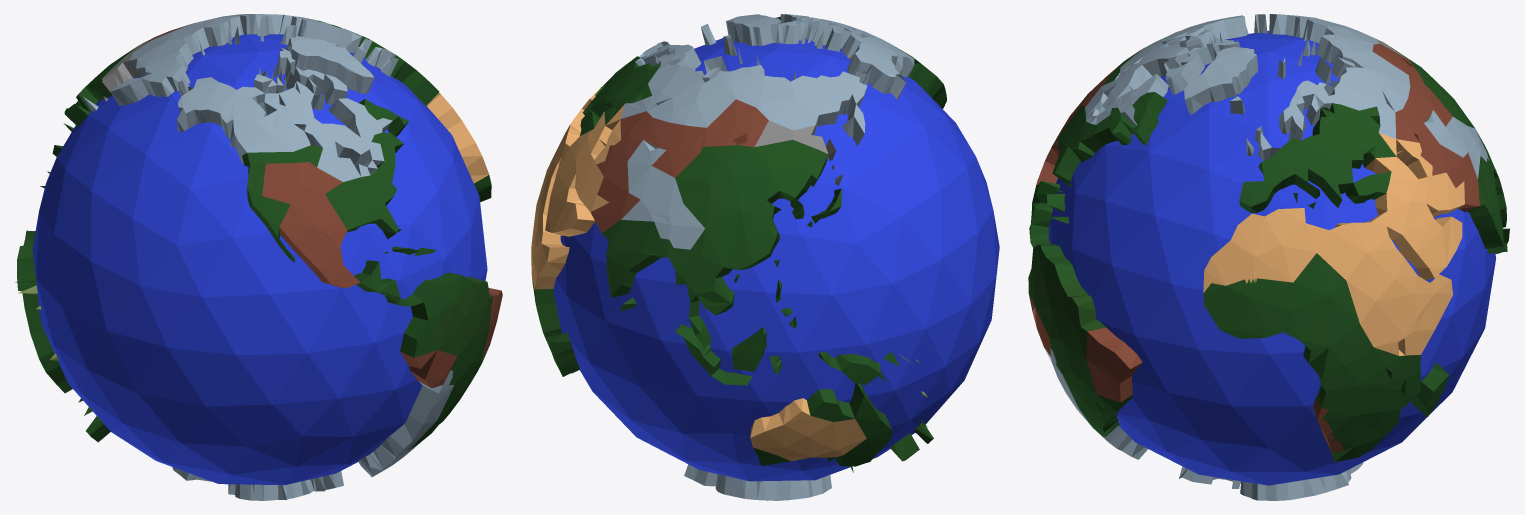
The model's file is globe.glb.
3 views of the same model, side by side, from view 1: azimuth 30°, elevation 25°; view 2: azimuth 150°, elevation 25°; view 3: azimuth 270°, elevation 25° (orthographic).
Visible parts, largest first — view 1: Ocean, north_america_desert, diomede_inslands, latinos, amazon, artic_territories, great_lakes, north_pacific_civilization, east_siberia, andes, mississippi_way, sahara (+26 smaller); view 2: Ocean, aussie_desert, west_siberia, east_siberia, loess_plateau, himalayas, diomede_inslands, han_land, arabian_peninsula, lake_baikal, manchuria, artic_territories (+43 smaller); view 3: Ocean, nile_river_region, sahara, africa_rainforest, sahel, arabian_peninsula, west_siberia, amazon, niger_river, caatinga, new_great_britain, big_plain (+47 smaller).
Part boxes in pixels (<box>): Ocean: <box>32,34,487,485</box>; north_america_desert: <box>262,162,347,271</box>; diomede_inslands: <box>110,58,219,131</box>; latinos: <box>394,272,472,357</box>; amazon: <box>433,276,492,356</box>; artic_territories: <box>254,47,347,110</box>; great_lakes: <box>317,124,384,181</box>; north_pacific_civilization: <box>208,82,257,164</box>; east_siberia: <box>129,23,209,77</box>; andes: <box>390,370,454,450</box>; mississippi_way: <box>325,175,380,232</box>; sahara: <box>426,93,489,183</box>; Ocean: <box>553,38,999,481</box>; aussie_desert: <box>750,398,866,461</box>; west_siberia: <box>647,47,765,127</box>; east_siberia: <box>736,68,841,130</box>; loess_plateau: <box>675,146,741,228</box>; himalayas: <box>621,166,704,249</box>; diomede_inslands: <box>830,49,906,146</box>; han_land: <box>705,200,781,267</box>; arabian_peninsula: <box>545,147,595,236</box>; lake_baikal: <box>703,99,768,147</box>; manchuria: <box>771,140,828,190</box>; artic_territories: <box>776,14,854,51</box>; Ocean: <box>1048,30,1496,485</box>; nile_river_region: <box>1329,221,1434,355</box>; sahara: <box>1203,208,1345,292</box>; africa_rainforest: <box>1299,324,1404,416</box>; sahel: <box>1203,253,1345,330</box>; arabian_peninsula: <box>1387,201,1462,279</box>; west_siberia: <box>1297,34,1410,112</box>; amazon: <box>1033,274,1105,358</box>; niger_river: <box>1267,281,1359,347</box>; caatinga: <box>1086,327,1142,402</box>; new_great_britain: <box>1080,92,1167,152</box>; big_plain: <box>1319,103,1396,157</box>.
Bounding box in the file's own units: 2.07 × 2.14 × 2.12.
